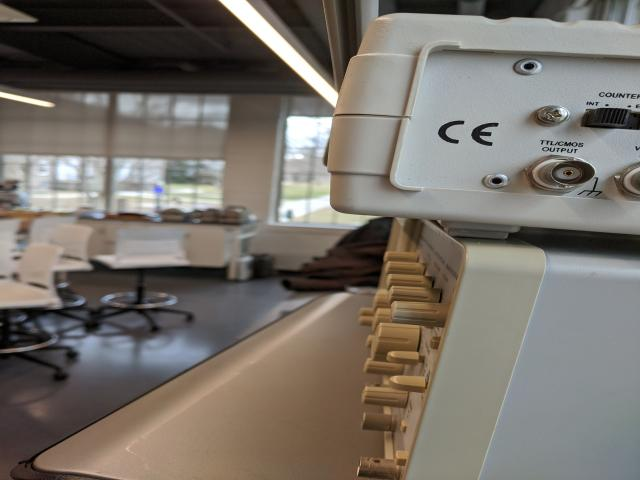CRS: (536, 106, 569, 124)
